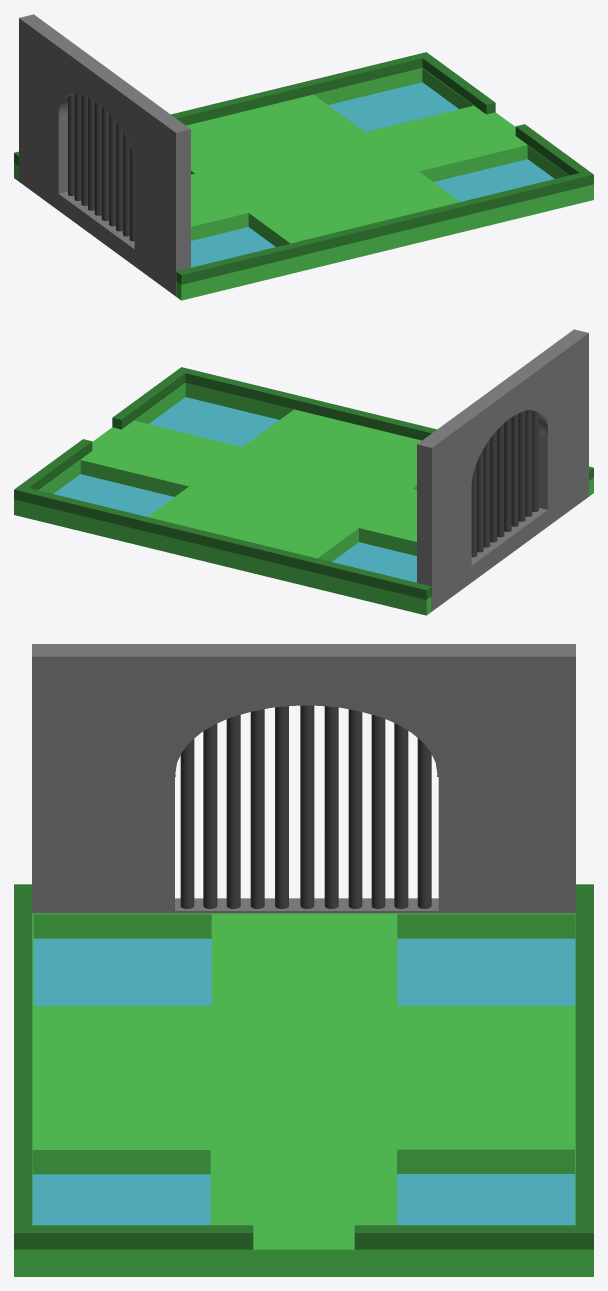
The picture shows the model from 3 angles, top to bottom: view 1: azimuth 30°, elevation 25°; view 2: azimuth 150°, elevation 25°; view 3: azimuth 270°, elevation 25°; orthographic projection. The views are drawn at different scales.
Visible parts, largest first — view 1: pCube12, polySurface1, pPlane1, polySurface2; view 2: pCube12, polySurface1, pPlane1, polySurface2; view 3: pCube12, polySurface1, pPlane1, polySurface2.
Boxes of the visible parts, x1=… form: pCube12: x1=14, y1=52, x2=593, y2=300; polySurface1: x1=19, y1=14, x2=190, y2=296; pPlane1: x1=191, y1=82, x2=554, y2=267; polySurface2: x1=68, y1=93, x2=134, y2=241; pCube12: x1=14, y1=367, x2=593, y2=615; polySurface1: x1=417, y1=329, x2=588, y2=611; pPlane1: x1=54, y1=397, x2=416, y2=582; polySurface2: x1=471, y1=409, x2=538, y2=557; pCube12: x1=14, y1=884, x2=593, y2=1276; polySurface1: x1=32, y1=644, x2=575, y2=913; pPlane1: x1=32, y1=938, x2=575, y2=1225; polySurface2: x1=180, y1=705, x2=431, y2=908.
Size of the model in its own units: 22.41 by 8.51 by 15.75.
